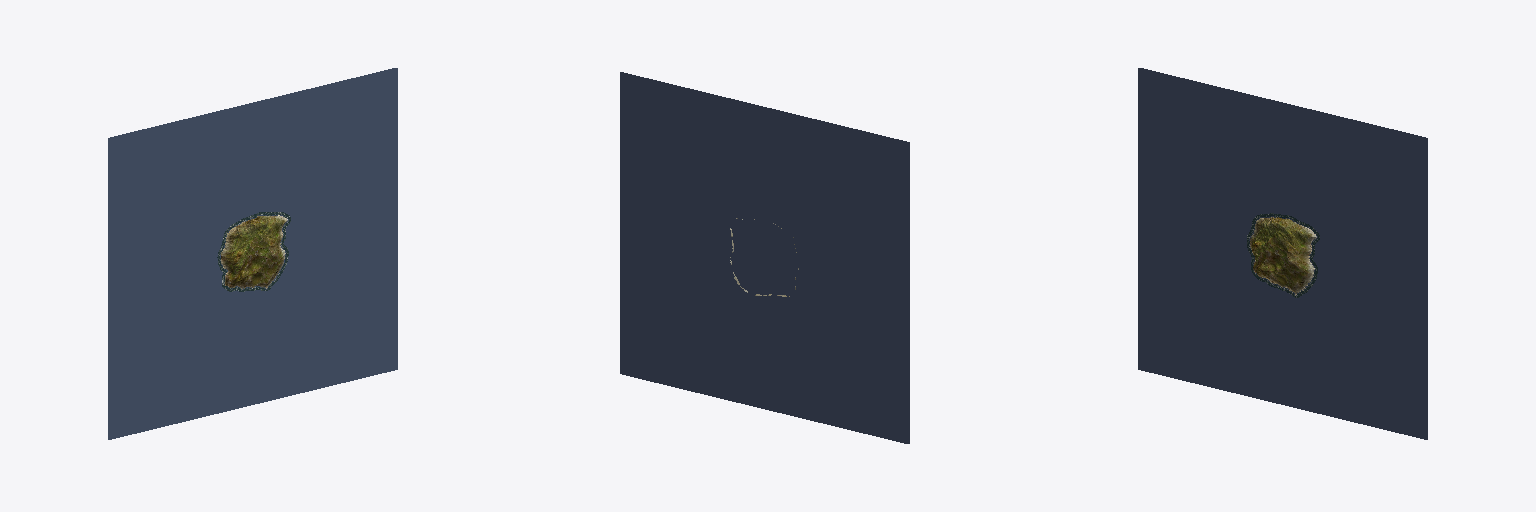
3 renders of one model, left to right at view 1: azimuth 30°, elevation 25°; view 2: azimuth 150°, elevation 25°; view 3: azimuth 330°, elevation 25°, orthographic.
Visible parts, largest first — view 1: fake_water_volume00, island, shorewaves; view 2: fake_water_volume06; view 3: fake_water_volume00, island, shorewaves.
Boxes of the visible parts, x1=… form: fake_water_volume00: x1=109, y1=68, x2=397, y2=439; island: x1=221, y1=215, x2=287, y2=288; shorewaves: x1=217, y1=212, x2=290, y2=291; fake_water_volume06: x1=620, y1=72, x2=908, y2=443; fake_water_volume00: x1=1138, y1=68, x2=1426, y2=439; island: x1=1250, y1=217, x2=1316, y2=295; shorewaves: x1=1247, y1=213, x2=1319, y2=297.
Size of the model in its own units: 100 by 100 by 4.72.
3 materials, 2 textured.